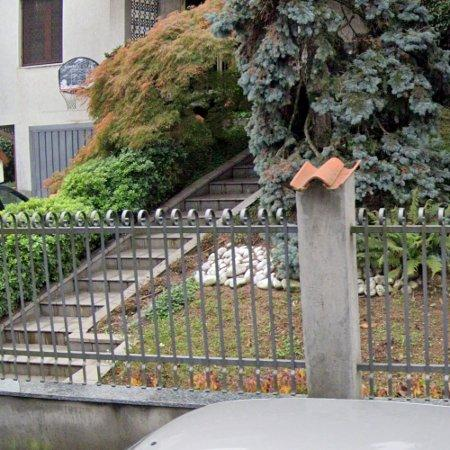stairs: (0, 223, 211, 383), (163, 150, 259, 215)
